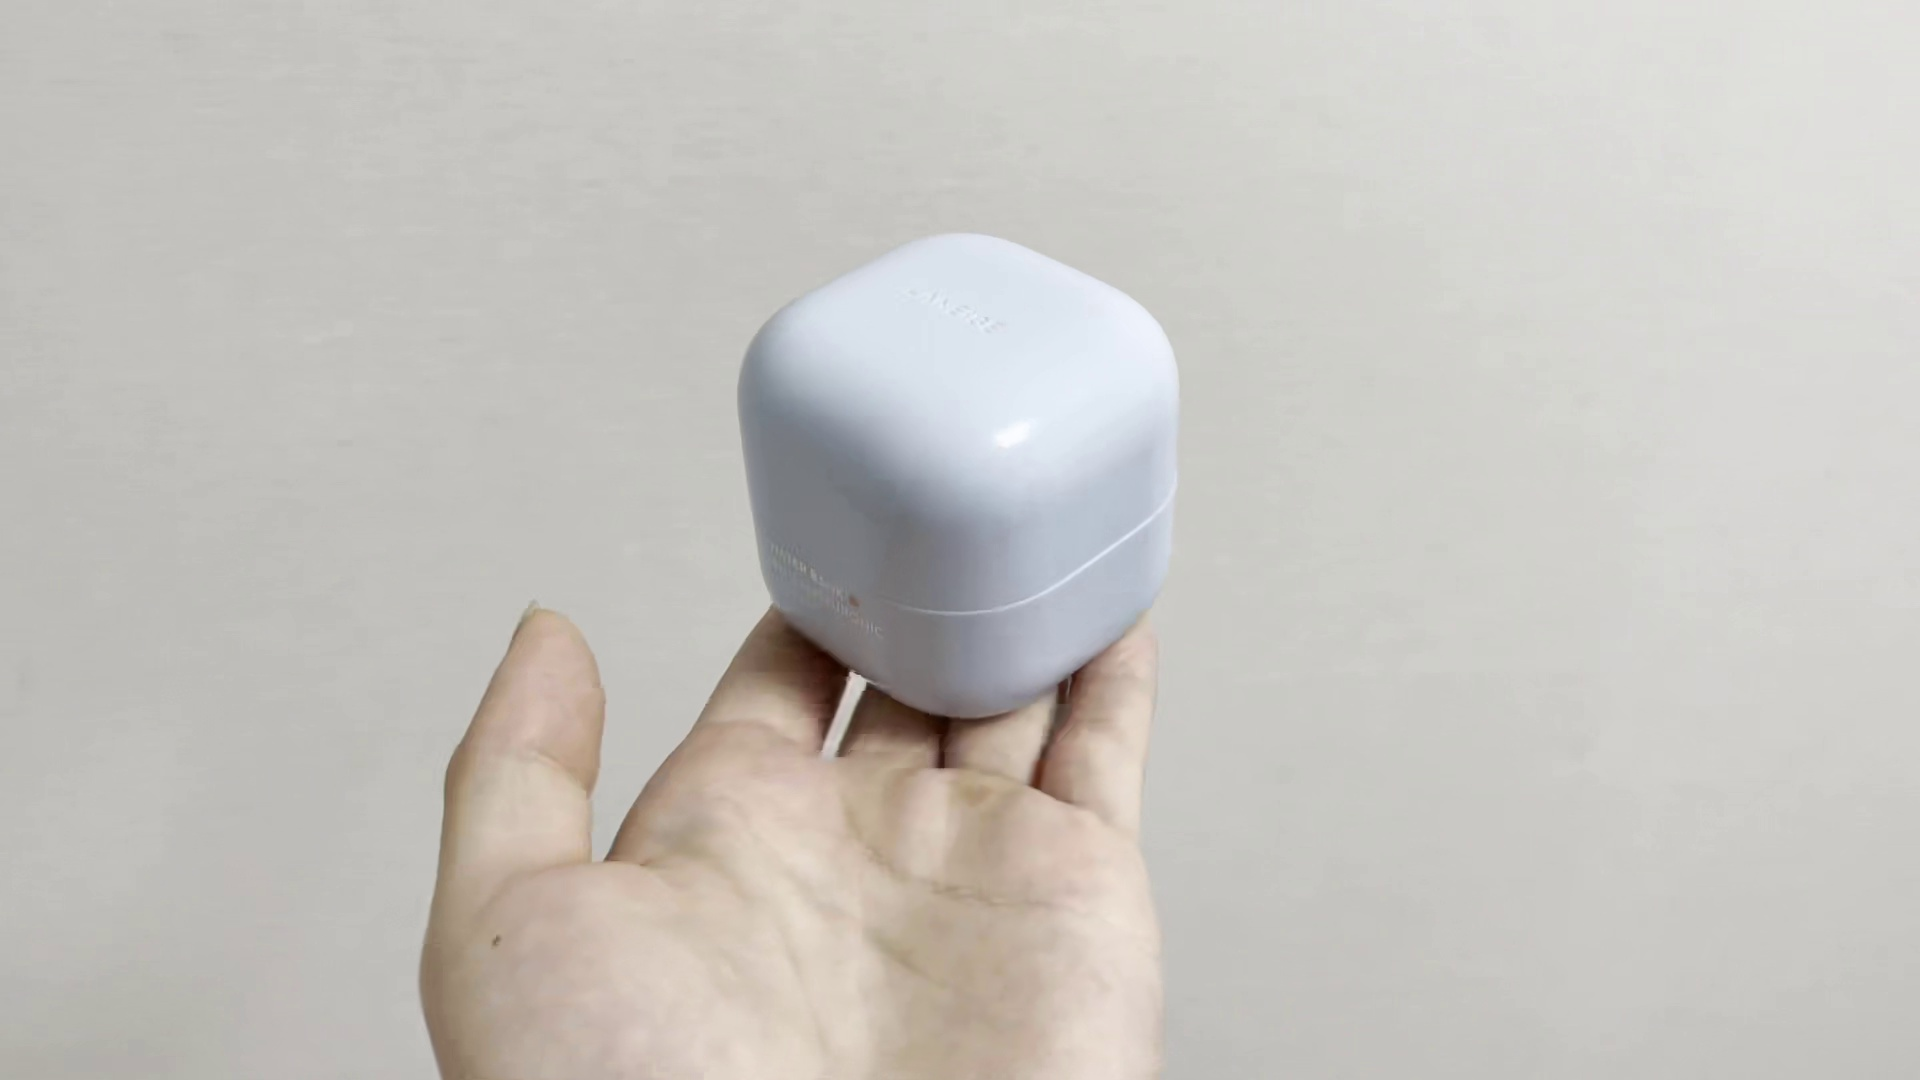cream: (746, 236, 1174, 716)
